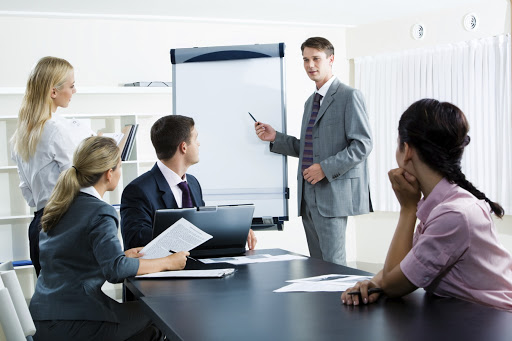Person: (341, 98, 512, 310), (28, 136, 191, 341), (255, 37, 374, 266), (120, 115, 258, 250), (10, 56, 87, 279)
